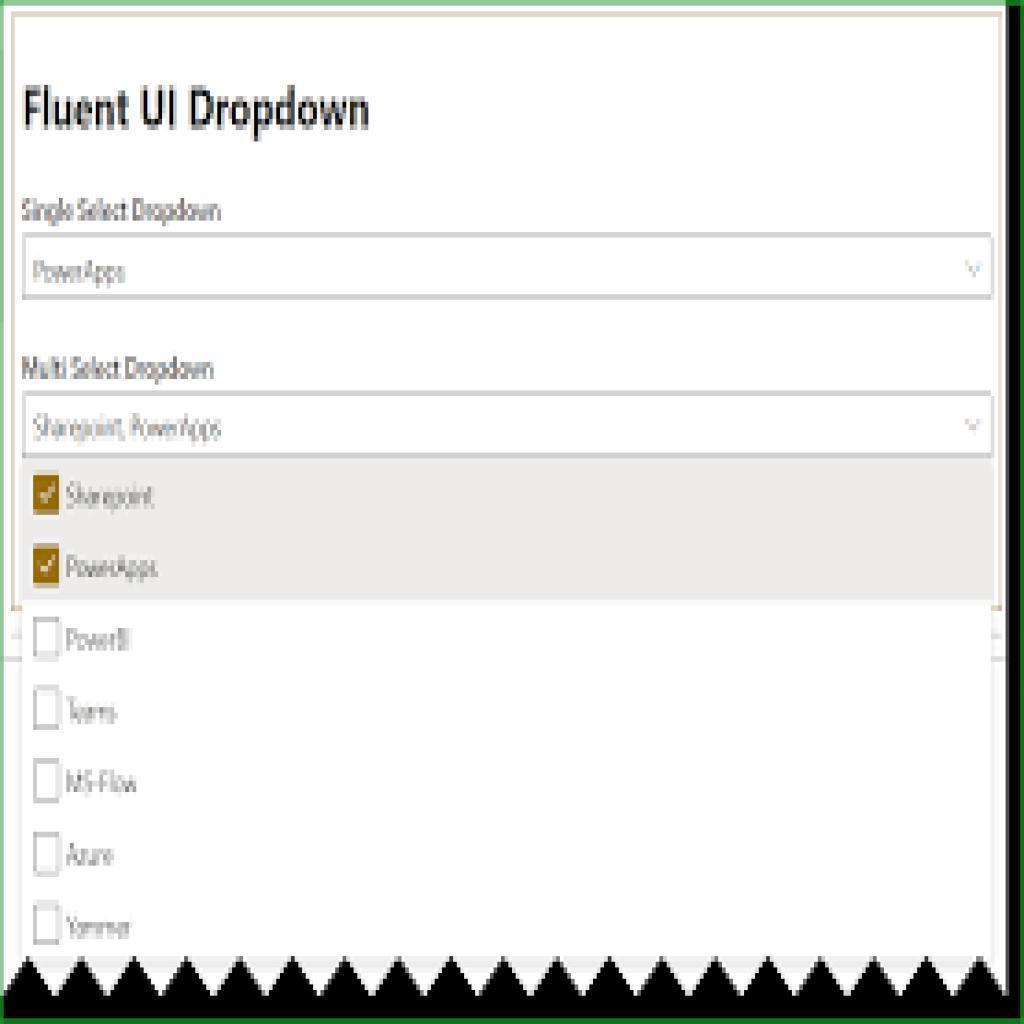checkbox: (32, 759, 65, 806), (32, 898, 63, 944), (33, 686, 63, 732), (32, 543, 60, 590), (35, 615, 61, 663), (33, 831, 60, 875), (32, 474, 60, 516), (67, 957, 69, 958)
dropdown: (24, 232, 992, 297), (22, 393, 992, 456)
label: (15, 351, 219, 385), (17, 195, 222, 228), (63, 548, 164, 584), (63, 476, 157, 513), (65, 764, 147, 803), (61, 624, 141, 662), (65, 911, 134, 946), (61, 837, 120, 872), (65, 693, 122, 729)
